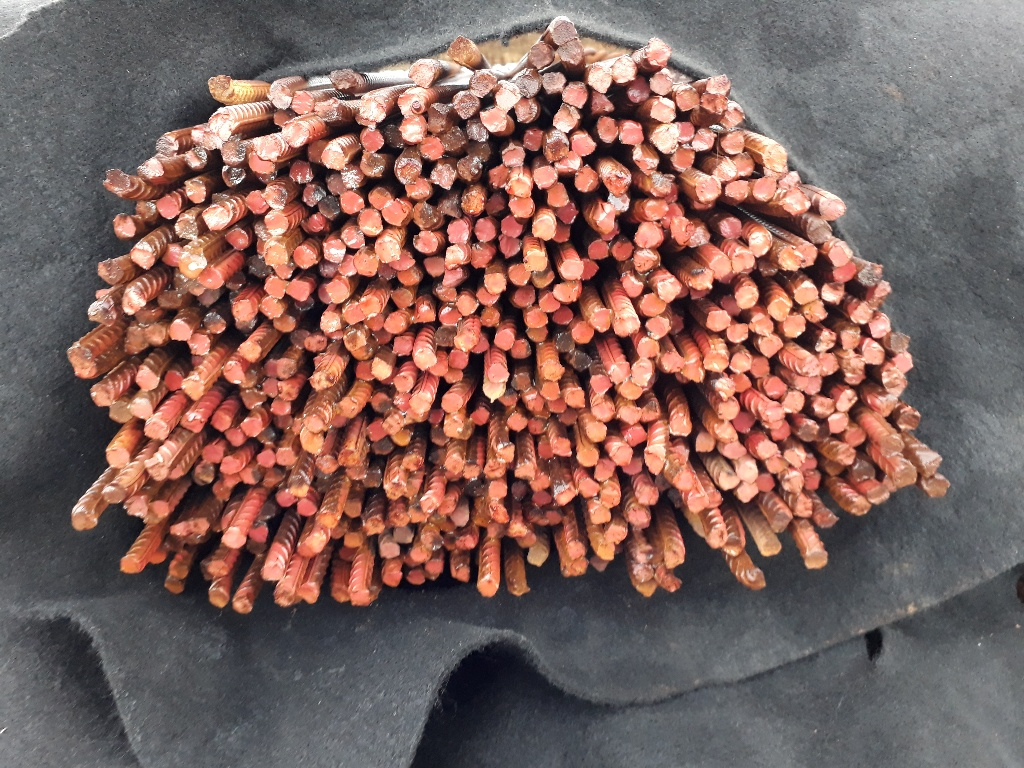dipstick: (64, 345, 100, 379), (648, 120, 679, 156), (406, 57, 438, 90), (397, 87, 429, 119), (840, 349, 868, 385), (446, 35, 477, 67), (602, 164, 634, 195), (87, 293, 118, 325), (201, 202, 235, 231), (178, 243, 207, 277), (546, 15, 581, 43), (632, 142, 660, 176), (93, 257, 129, 283), (551, 102, 582, 132), (642, 37, 671, 69), (655, 561, 684, 593), (428, 159, 456, 192), (354, 97, 388, 124), (543, 129, 570, 163), (207, 111, 237, 141), (555, 37, 586, 66), (514, 67, 543, 98), (393, 154, 422, 185), (709, 153, 741, 181), (410, 201, 442, 229), (551, 279, 585, 305), (443, 412, 477, 438), (591, 199, 616, 234), (468, 70, 498, 99), (670, 143, 699, 173), (356, 206, 385, 236), (609, 54, 637, 85), (762, 143, 790, 174), (453, 90, 482, 119), (381, 197, 410, 226), (633, 247, 662, 276), (572, 162, 600, 192), (723, 177, 753, 205), (880, 366, 908, 396), (617, 116, 644, 147), (649, 92, 676, 123), (427, 100, 453, 132), (254, 135, 287, 160), (111, 211, 140, 239), (282, 119, 309, 149), (818, 194, 848, 221), (586, 62, 612, 93), (627, 74, 653, 105), (102, 443, 133, 469), (637, 196, 670, 220), (695, 176, 723, 204), (859, 337, 887, 365), (848, 454, 876, 482), (417, 132, 444, 161), (508, 193, 537, 220), (634, 220, 663, 247), (352, 247, 379, 276), (864, 280, 893, 307), (780, 188, 810, 214), (403, 176, 434, 201), (246, 151, 277, 176), (130, 239, 154, 271), (689, 216, 713, 248), (631, 357, 655, 389), (562, 80, 589, 108), (721, 99, 748, 127), (479, 105, 507, 132), (399, 115, 427, 142), (455, 153, 483, 180), (469, 242, 496, 270), (671, 465, 699, 492), (529, 41, 555, 70), (436, 125, 465, 151), (133, 199, 162, 225), (775, 245, 804, 271), (595, 114, 620, 144), (268, 79, 293, 109), (137, 156, 167, 181), (698, 92, 729, 116), (684, 266, 715, 290), (358, 152, 385, 179), (716, 214, 743, 241), (589, 87, 615, 115), (673, 84, 699, 112), (494, 80, 520, 108), (380, 121, 406, 149), (647, 170, 673, 198), (437, 191, 463, 219), (219, 138, 247, 164), (124, 325, 150, 353), (452, 327, 480, 353), (680, 357, 706, 385), (405, 540, 433, 566), (586, 498, 614, 524), (482, 189, 507, 218), (102, 168, 131, 193), (461, 186, 485, 216), (669, 216, 693, 246), (747, 311, 777, 335), (611, 314, 642, 337), (691, 127, 717, 154), (719, 128, 745, 155), (571, 130, 598, 156), (412, 228, 439, 254), (244, 188, 271, 214), (264, 210, 291, 236), (197, 263, 224, 289), (805, 217, 832, 243), (524, 542, 551, 568), (589, 395, 615, 422), (262, 183, 290, 208), (220, 161, 248, 186), (340, 224, 368, 249), (161, 241, 186, 269), (793, 280, 821, 305), (554, 150, 583, 174), (324, 141, 348, 170), (338, 190, 367, 214), (263, 241, 292, 265), (376, 236, 400, 265), (800, 299, 829, 323), (620, 423, 649, 447), (895, 407, 924, 431), (87, 382, 117, 405), (617, 378, 647, 401), (471, 497, 493, 528), (287, 158, 313, 184), (444, 245, 470, 271), (155, 193, 182, 218), (225, 224, 252, 249), (293, 244, 318, 271), (828, 240, 853, 267), (834, 387, 859, 414), (672, 117, 696, 145), (496, 234, 524, 258), (173, 213, 201, 237), (753, 174, 777, 202), (640, 292, 668, 316), (127, 397, 155, 421), (328, 67, 357, 90), (704, 73, 733, 96), (610, 234, 633, 263), (756, 334, 785, 357), (237, 414, 266, 437), (70, 509, 99, 532), (462, 139, 493, 160), (200, 558, 231, 579), (521, 127, 546, 153), (505, 173, 530, 199), (208, 75, 233, 101), (360, 127, 386, 152), (258, 295, 284, 320), (170, 265, 196, 290), (135, 363, 160, 389), (359, 294, 384, 320), (655, 278, 681, 303), (858, 262, 884, 287), (706, 254, 731, 280), (815, 351, 841, 376), (349, 586, 374, 612), (642, 450, 667, 476), (650, 66, 674, 93), (546, 180, 570, 207), (301, 183, 328, 207), (587, 236, 611, 263), (202, 309, 226, 336), (185, 332, 212, 356), (645, 316, 672, 340), (730, 250, 757, 274), (810, 396, 837, 420), (880, 432, 904, 459), (300, 426, 323, 454), (575, 476, 603, 499), (599, 480, 622, 508), (623, 505, 651, 528), (704, 309, 733, 331), (657, 351, 686, 373), (270, 107, 299, 129), (143, 418, 173, 439), (719, 438, 749, 459), (465, 117, 490, 142), (305, 139, 330, 164), (532, 215, 557, 240), (183, 178, 208, 203), (248, 253, 273, 278), (822, 280, 847, 305), (474, 574, 499, 599), (290, 91, 314, 117), (514, 96, 538, 122), (501, 142, 525, 168), (367, 186, 393, 210), (341, 162, 365, 188), (154, 133, 180, 157), (285, 279, 311, 303), (123, 288, 147, 314), (586, 309, 612, 333), (539, 358, 565, 382), (480, 375, 506, 399), (209, 408, 235, 432), (575, 444, 601, 468), (533, 166, 560, 189), (317, 193, 340, 220), (505, 263, 532, 286), (795, 240, 818, 267), (107, 401, 134, 424), (220, 526, 247, 549), (301, 212, 329, 234), (865, 483, 893, 505), (793, 372, 821, 394), (314, 97, 338, 122), (488, 160, 508, 190), (325, 280, 349, 305), (230, 298, 255, 322), (734, 284, 758, 309), (839, 326, 864, 350), (704, 347, 728, 372), (408, 390, 432, 415), (636, 336, 660, 361), (336, 394, 360, 419), (430, 423, 454, 448), (524, 503, 549, 527), (663, 545, 688, 569), (715, 396, 740, 420), (183, 146, 209, 169), (868, 312, 891, 338), (571, 319, 594, 345), (123, 494, 149, 517), (190, 461, 216, 484), (735, 457, 758, 483), (605, 190, 632, 212), (446, 216, 468, 243), (748, 230, 770, 257), (779, 314, 806, 336), (566, 350, 593, 372), (591, 372, 613, 399), (421, 524, 443, 551), (177, 412, 205, 433), (240, 387, 268, 408), (614, 404, 642, 425), (474, 286, 503, 306), (752, 440, 781, 460), (541, 69, 565, 93), (156, 289, 188, 307), (620, 273, 644, 297), (608, 442, 632, 466), (593, 458, 617, 482), (814, 328, 837, 353), (504, 411, 529, 434), (607, 362, 632, 385), (146, 457, 169, 482), (207, 585, 230, 610), (593, 538, 618, 561), (668, 413, 693, 436), (781, 468, 804, 493), (390, 248, 416, 270), (766, 299, 792, 321), (719, 294, 745, 316), (886, 332, 912, 354), (116, 552, 142, 574), (201, 442, 227, 464), (733, 150, 754, 177), (389, 335, 416, 356), (628, 543, 655, 564), (803, 549, 830, 570), (509, 287, 537, 307), (924, 478, 952, 498), (474, 218, 497, 242), (263, 274, 287, 297), (223, 361, 246, 385), (412, 301, 436, 324), (848, 300, 871, 324), (479, 304, 502, 328), (370, 356, 393, 380), (247, 519, 270, 543), (488, 499, 511, 523), (486, 478, 509, 502), (705, 525, 728, 549), (324, 238, 346, 263), (438, 304, 463, 326), (413, 348, 438, 370), (583, 420, 608, 442), (631, 562, 656, 584), (713, 376, 735, 401), (457, 525, 478, 551), (397, 265, 424, 285), (513, 528, 540, 548), (562, 558, 589, 578), (500, 214, 523, 237), (524, 250, 547, 273), (143, 324, 166, 347), (182, 373, 205, 396), (319, 309, 342, 332), (383, 312, 406, 335), (729, 350, 752, 373), (732, 410, 755, 433), (781, 391, 804, 414), (250, 215, 272, 239), (424, 254, 446, 278), (531, 267, 553, 291), (344, 327, 366, 351), (493, 326, 515, 350), (392, 369, 414, 393), (538, 380, 562, 402), (231, 593, 255, 615), (298, 582, 320, 606), (361, 465, 383, 489), (550, 436, 574, 458), (641, 398, 663, 422), (687, 492, 711, 514), (874, 394, 896, 418), (559, 259, 584, 280), (197, 287, 222, 308), (167, 321, 192, 342), (390, 286, 415, 307), (455, 294, 480, 315), (749, 355, 770, 380), (433, 326, 458, 347), (354, 360, 379, 381), (921, 457, 946, 478), (762, 376, 787, 397), (890, 352, 916, 372), (483, 458, 509, 478), (734, 482, 760, 502), (763, 402, 783, 428), (238, 339, 261, 361), (276, 357, 299, 379), (553, 330, 576, 352), (448, 345, 470, 368), (370, 392, 393, 414), (850, 496, 873, 518), (694, 430, 716, 453), (556, 202, 577, 226), (482, 272, 506, 293), (434, 282, 458, 303), (830, 264, 858, 282), (277, 376, 298, 400), (295, 496, 319, 517), (385, 475, 406, 499), (461, 478, 485, 499), (668, 444, 689, 468), (769, 420, 793, 441), (795, 422, 819, 443), (833, 445, 857, 466), (317, 258, 342, 278), (726, 323, 751, 343), (367, 418, 387, 443), (632, 579, 657, 599), (801, 467, 821, 492), (528, 488, 555, 506), (510, 337, 532, 359), (511, 370, 533, 392), (342, 301, 365, 322), (304, 412, 325, 435), (391, 389, 412, 412), (269, 394, 292, 415), (274, 588, 297, 609), (384, 411, 405, 434), (514, 459, 537, 480), (567, 539, 590, 560), (336, 449, 360, 469), (826, 413, 850, 433), (440, 268, 468, 285), (793, 493, 812, 518), (496, 390, 522, 408), (212, 477, 230, 503), (894, 468, 920, 486), (325, 172, 346, 194), (377, 261, 398, 283), (305, 330, 327, 351), (798, 355, 820, 376), (553, 303, 574, 325), (488, 362, 510, 383), (526, 415, 548, 436), (565, 387, 586, 409), (275, 446, 296, 468), (402, 451, 424, 472), (620, 455, 642, 476), (759, 536, 781, 557), (770, 510, 791, 532), (784, 446, 805, 468), (757, 257, 779, 278), (442, 393, 465, 413), (103, 484, 126, 504), (239, 466, 262, 486), (294, 539, 317, 559), (637, 486, 660, 506), (726, 537, 746, 560), (224, 273, 248, 292), (667, 313, 686, 337), (261, 563, 285, 582), (341, 530, 365, 549), (605, 522, 629, 541), (349, 342, 374, 360), (510, 480, 528, 505), (814, 511, 840, 528), (163, 368, 184, 389), (524, 391, 545, 412), (408, 502, 429, 523), (495, 443, 516, 464), (732, 372, 753, 393), (525, 308, 547, 328), (221, 455, 243, 475), (317, 453, 339, 473), (392, 524, 414, 544), (134, 307, 157, 326), (310, 371, 333, 390), (345, 461, 368, 480), (390, 427, 413, 446), (387, 508, 410, 527), (538, 293, 562, 311), (583, 256, 599, 283), (147, 500, 171, 518), (555, 408, 579, 426), (432, 351, 449, 376), (289, 329, 310, 349), (272, 410, 293, 430), (255, 449, 276, 469), (468, 405, 489, 425), (530, 473, 551, 493), (553, 222, 572, 244), (261, 357, 280, 379), (240, 364, 259, 386), (191, 515, 210, 537), (275, 488, 297, 507), (362, 516, 384, 535), (381, 569, 403, 588), (263, 468, 286, 486), (426, 445, 449, 463), (379, 541, 402, 559), (405, 567, 428, 585), (508, 580, 531, 598), (525, 325, 549, 342), (717, 471, 741, 488), (318, 510, 338, 530), (419, 494, 439, 514), (555, 485, 575, 505), (272, 262, 293, 281), (425, 559, 444, 580), (755, 473, 776, 492), (750, 569, 769, 590), (844, 425, 865, 444), (590, 555, 611, 574), (370, 329, 393, 346), (168, 519, 191, 536), (271, 315, 295, 331), (343, 499, 363, 518), (665, 201, 686, 219), (262, 375, 280, 396), (168, 560, 189, 578), (537, 438, 555, 459), (779, 171, 801, 188), (446, 452, 463, 474), (289, 478, 308, 497), (306, 533, 325, 552), (339, 544, 359, 562), (543, 508, 563, 526), (331, 585, 350, 603), (453, 563, 472, 581), (508, 520, 528, 537), (190, 123, 206, 144), (291, 297, 315, 311), (256, 427, 277, 443), (165, 576, 187, 591), (823, 460, 845, 475), (428, 408, 446, 426), (706, 489, 724, 507), (463, 462, 482, 479), (450, 509, 470, 525), (882, 474, 902, 490), (443, 530, 457, 552), (547, 397, 566, 413), (443, 369, 464, 383), (802, 452, 818, 470), (368, 314, 384, 331), (168, 464, 185, 480), (437, 497, 455, 512), (149, 549, 168, 563)
